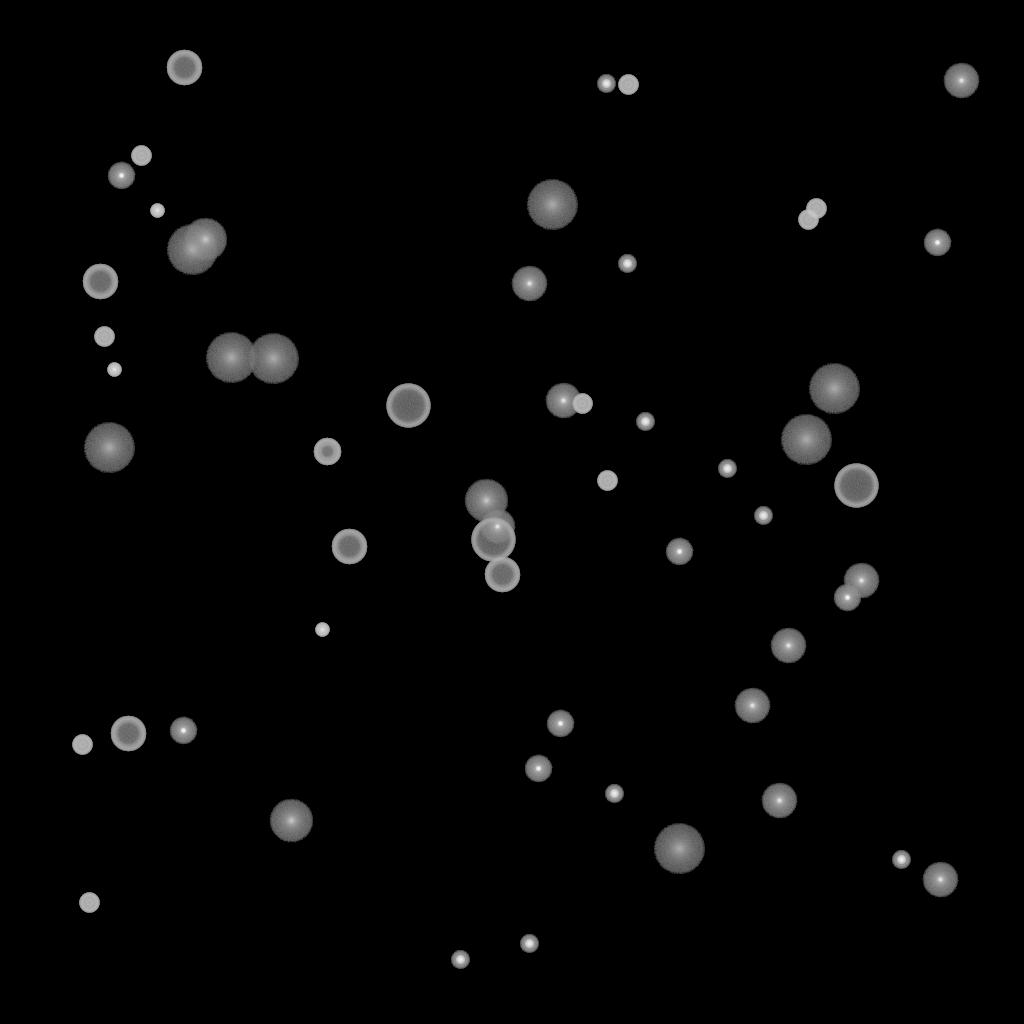depth:-10: (665, 538, 693, 566), (833, 584, 861, 612), (107, 162, 135, 190), (546, 710, 574, 738), (169, 717, 197, 745), (524, 755, 552, 783), (923, 229, 951, 257)
depth:-20: (636, 413, 654, 431), (754, 507, 772, 525), (618, 255, 636, 273), (520, 935, 538, 953), (597, 75, 615, 93), (892, 851, 910, 869), (605, 785, 623, 803), (718, 460, 736, 478), (451, 951, 469, 969)
depth:-30: (315, 623, 329, 637), (150, 204, 164, 218), (107, 363, 121, 377)
depth:-40: (798, 210, 818, 230), (72, 735, 92, 755), (79, 893, 99, 913), (572, 394, 592, 414), (94, 327, 114, 347), (597, 471, 617, 491), (131, 146, 151, 166), (618, 75, 638, 95), (806, 199, 826, 219)
depth:-50: (313, 438, 341, 466)
depth:-60: (331, 529, 367, 565), (110, 716, 146, 752), (166, 50, 202, 86), (82, 264, 118, 300), (484, 557, 520, 593)
depth:-70: (471, 518, 515, 562), (386, 384, 430, 428), (834, 464, 878, 508)
depth:0: (943, 63, 979, 99), (922, 862, 958, 898), (761, 783, 797, 819), (770, 628, 806, 664), (843, 563, 879, 599), (734, 688, 770, 724), (545, 383, 581, 419), (479, 509, 515, 545), (511, 266, 547, 302)
depth:10: (269, 799, 313, 843), (464, 479, 508, 523), (183, 218, 227, 262)
depth:20: (808, 364, 860, 414), (166, 225, 218, 275), (83, 423, 135, 473), (653, 824, 705, 874), (205, 333, 257, 383), (780, 415, 832, 465), (247, 334, 299, 384), (526, 180, 578, 230)
